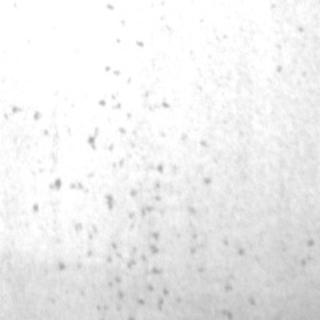pitted_surface: (80, 9, 216, 314), (2, 104, 90, 272), (210, 0, 312, 84), (219, 232, 313, 316)
